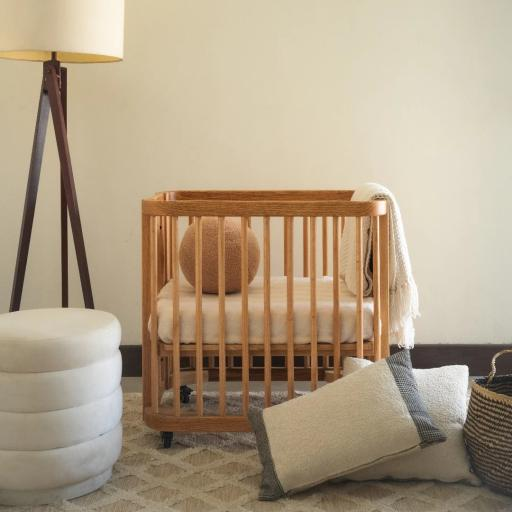crib: (142, 190, 388, 431)
